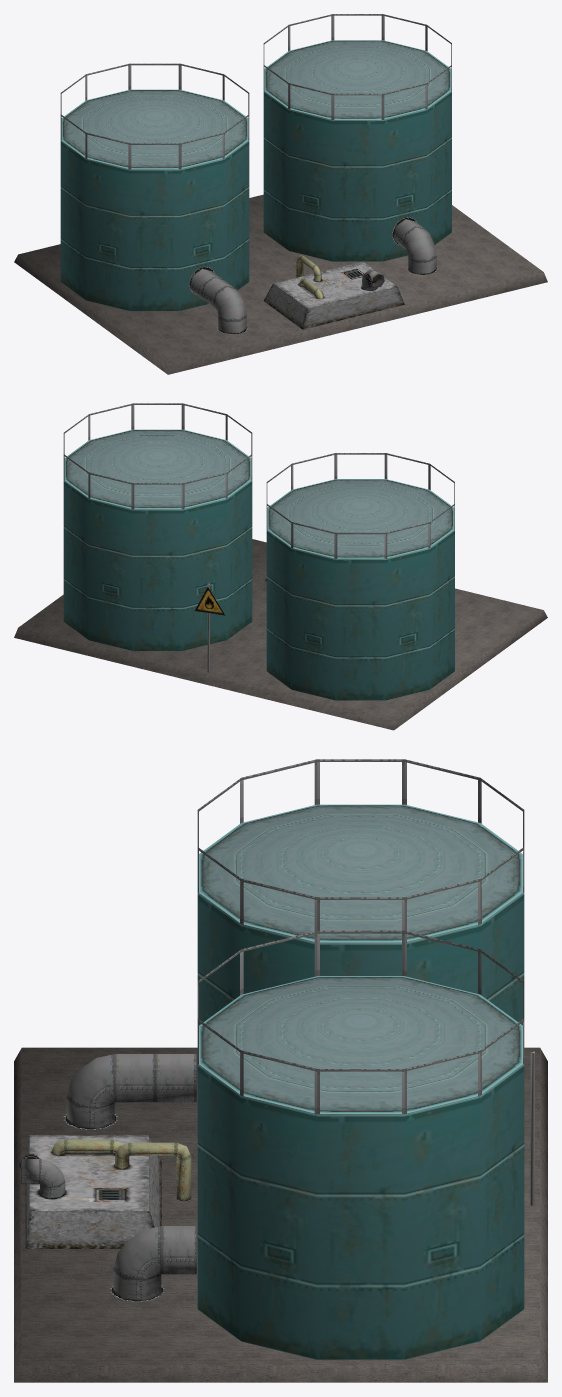
Rendered from M3_OIL_DEPO01.glb.
3 renders of one model, top to bottom at view 1: azimuth 30°, elevation 25°; view 2: azimuth 150°, elevation 25°; view 3: azimuth 270°, elevation 25°, orthographic. The views are drawn at different scales.
Visible parts, largest first — view 1: M3_OIL_DEPO01; view 2: M3_OIL_DEPO01; view 3: M3_OIL_DEPO01.
Part boxes in pixels (x1=…): M3_OIL_DEPO01: x1=14, y1=14, x2=547, y2=374; M3_OIL_DEPO01: x1=14, y1=403, x2=547, y2=730; M3_OIL_DEPO01: x1=14, y1=759, x2=547, y2=1382.
Size of the model in its own units: 11.2 by 4.99 by 7.87.
Materials: 14 (13 with a texture image).
